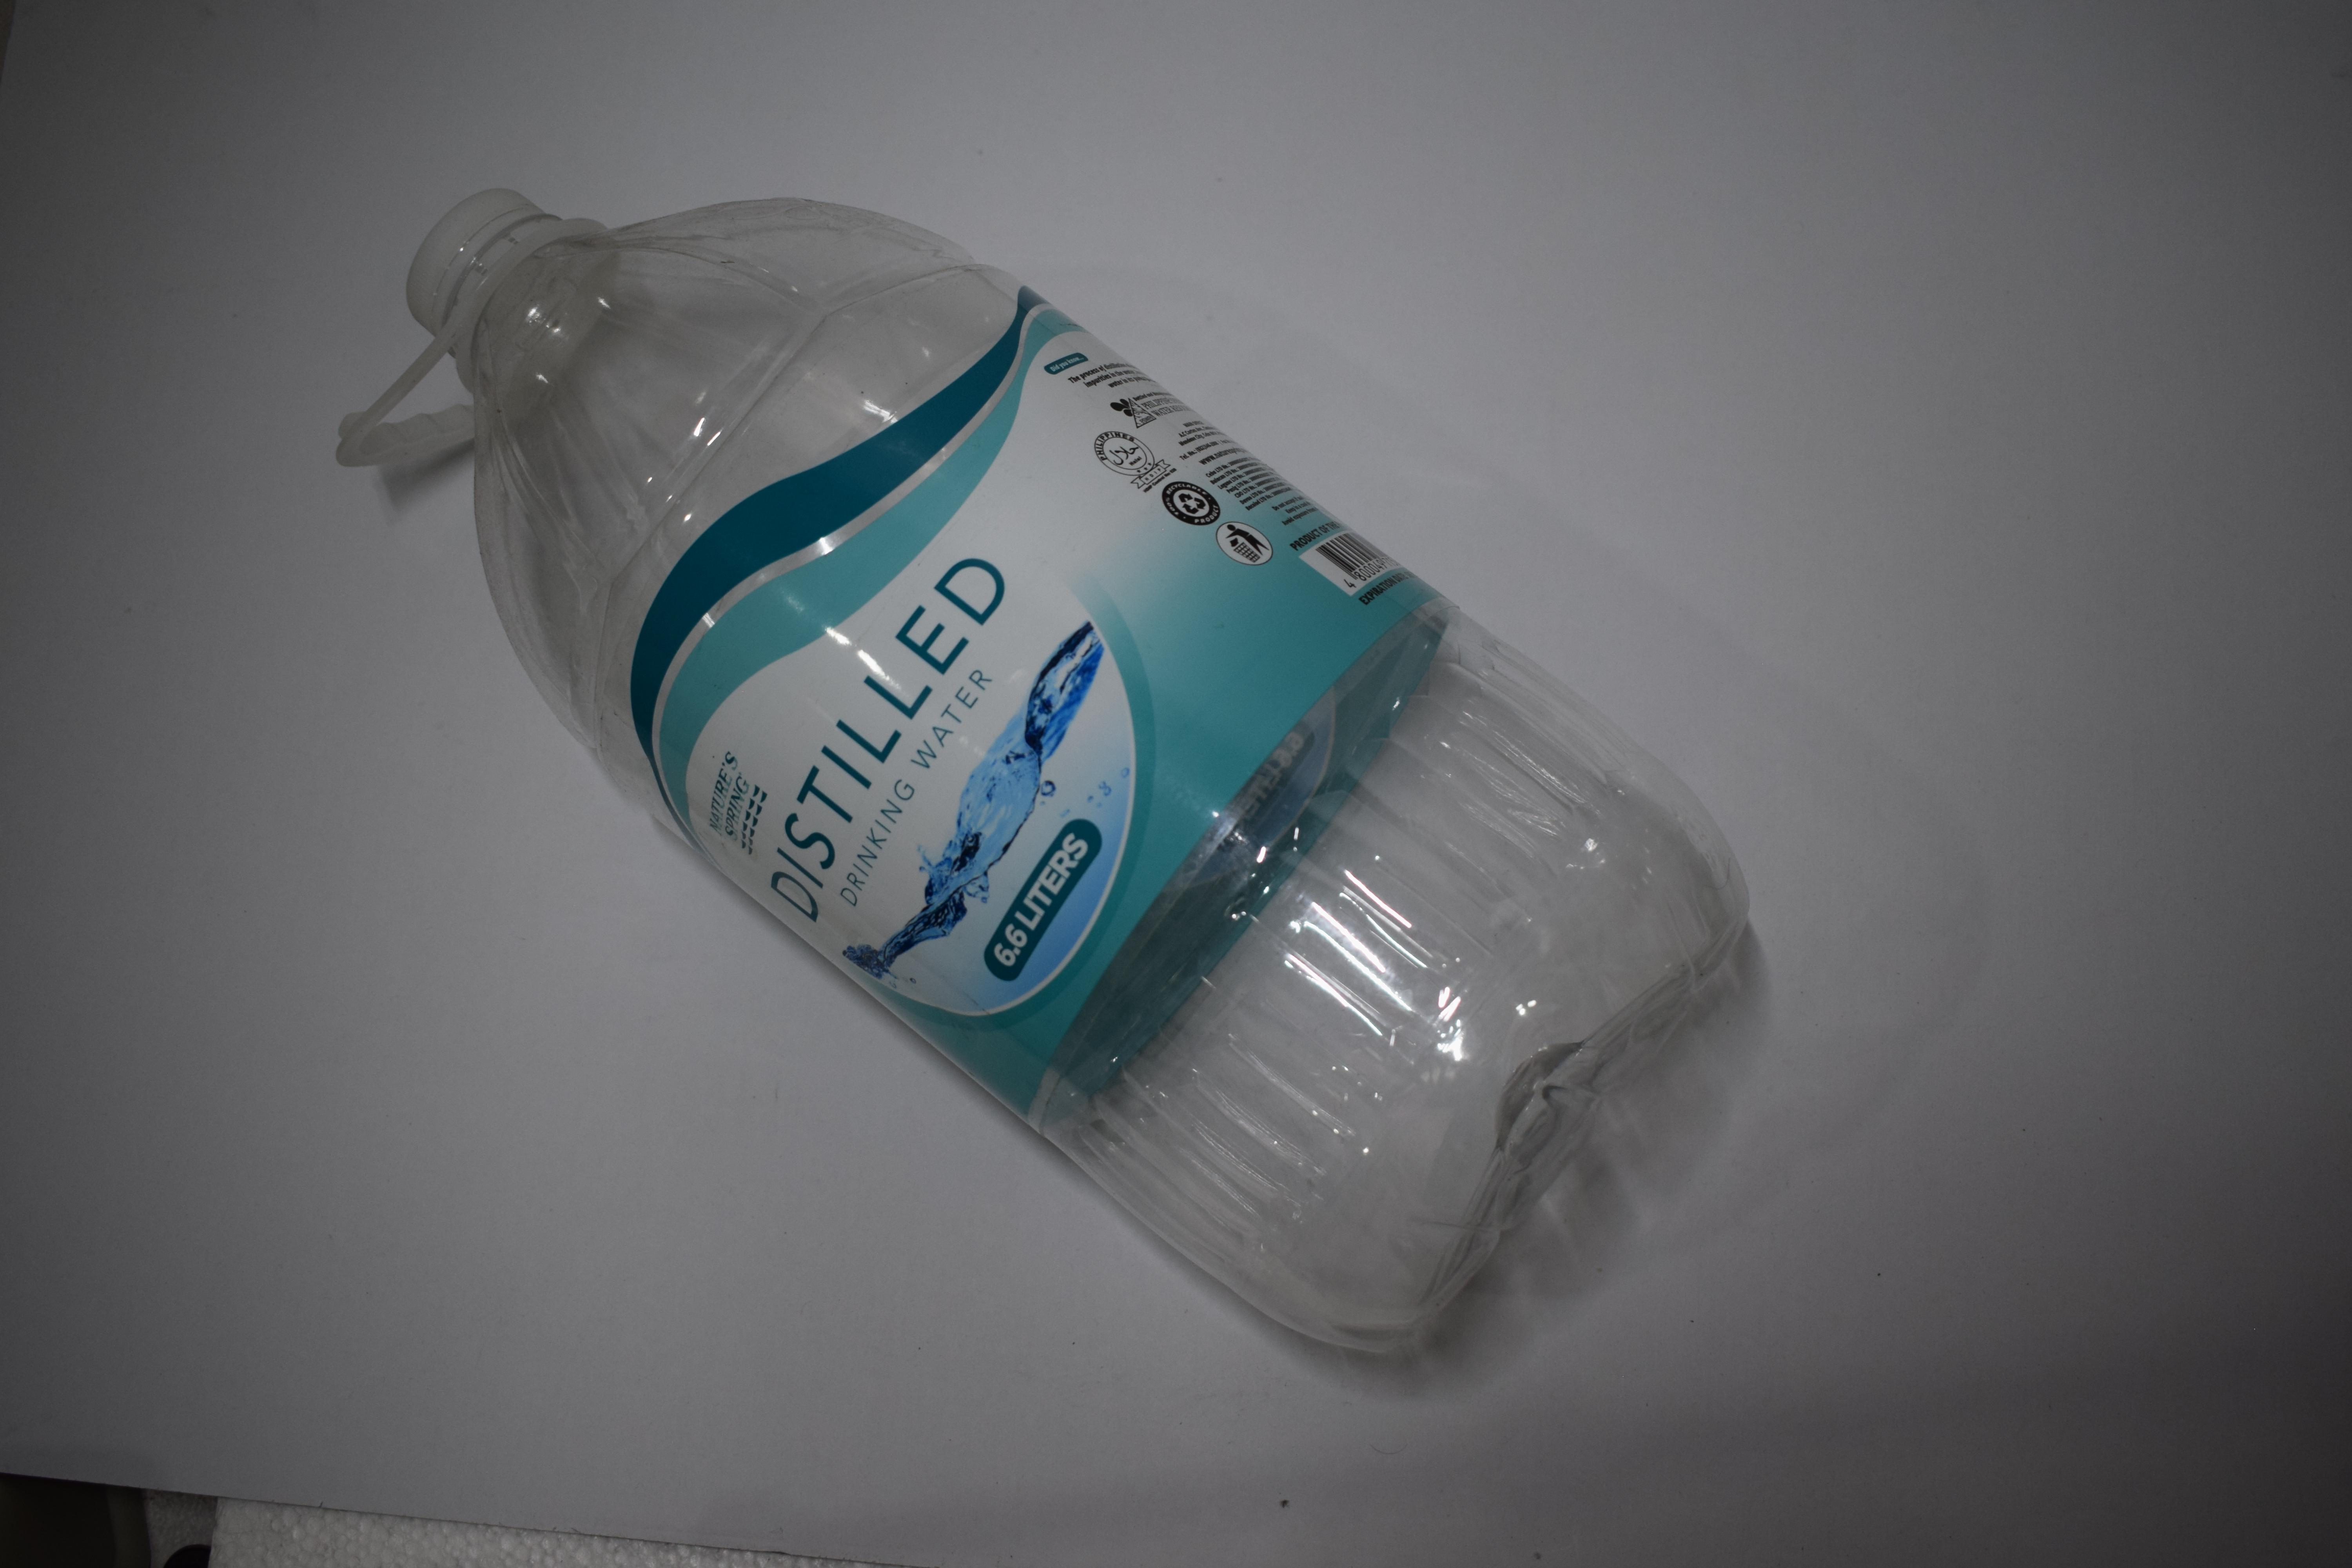bottle: (322, 165, 1764, 1372)
